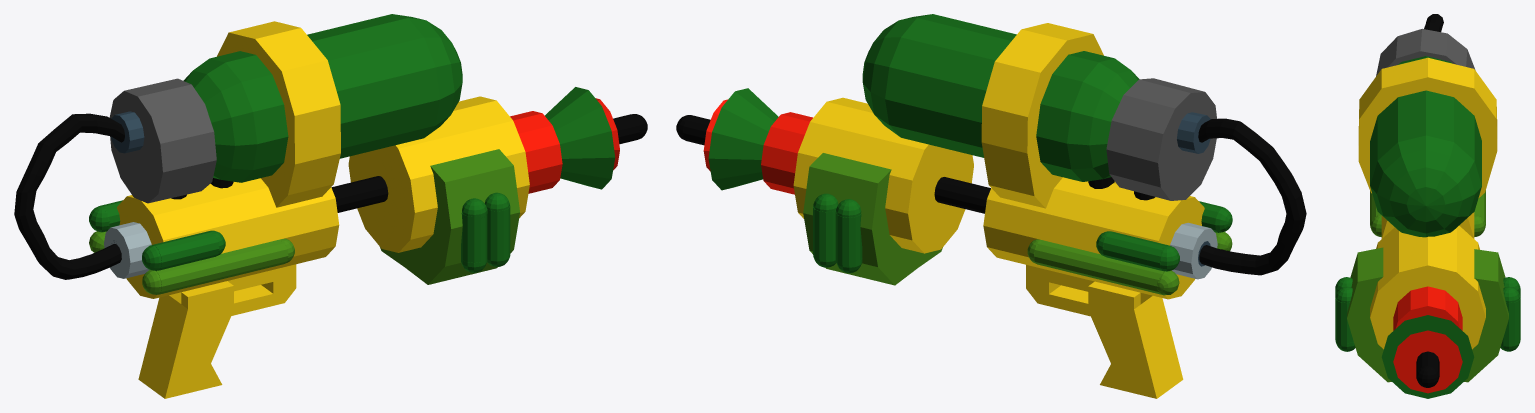
The picture shows the model from 3 angles, left to right: view 1: azimuth 30°, elevation 25°; view 2: azimuth 150°, elevation 25°; view 3: azimuth 270°, elevation 25°; orthographic projection. The views are drawn at different scales.
Parts seen in each view (by area): view 1: group1528942852, group1231265303, group788754832, group152732627, group1432826538, group1626636843, group1460454516, group426131636, group805588756, group1919121466, group501557005, group1093873200 (+5 smaller); view 2: group1528942852, group1231265303, group788754832, group152732627, group1432826538, group1626636843, group1460454516, group426131636, group805588756, group869934215, group501557005, group1093873200 (+5 smaller); view 3: group1528942852, group1231265303, group152732627, group1460454516, group805588756, group1119951653, group1626636843, group501557005, group155952289, group1585345453, group788754832, group1788925378 (+8 smaller).
Part boxes in pixels (bbox=[...]): group1528942852: bbox=[183, 14, 462, 182]; group1231265303: bbox=[348, 96, 529, 252]; group788754832: bbox=[117, 178, 339, 298]; group152732627: bbox=[217, 21, 340, 207]; group1432826538: bbox=[138, 264, 296, 398]; group1626636843: bbox=[109, 78, 216, 203]; group1460454516: bbox=[380, 149, 519, 284]; group426131636: bbox=[14, 113, 124, 279]; group805588756: bbox=[545, 87, 615, 189]; group1919121466: bbox=[156, 239, 288, 294]; group501557005: bbox=[510, 111, 562, 193]; group1093873200: bbox=[331, 114, 640, 212]; group1528942852: bbox=[862, 14, 1139, 181]; group1231265303: bbox=[793, 97, 973, 253]; group788754832: bbox=[983, 177, 1204, 299]; group152732627: bbox=[981, 23, 1103, 208]; group1432826538: bbox=[1026, 265, 1183, 398]; group1626636843: bbox=[1106, 78, 1216, 200]; group1460454516: bbox=[803, 153, 942, 285]; group426131636: bbox=[1198, 118, 1306, 275]; group805588756: bbox=[708, 88, 778, 190]; group869934215: bbox=[1034, 240, 1163, 294]; group501557005: bbox=[761, 112, 812, 194]; group1093873200: bbox=[682, 115, 990, 213]; group1528942852: bbox=[1370, 56, 1481, 237]; group1231265303: bbox=[1370, 225, 1485, 349]; group152732627: bbox=[1358, 57, 1497, 198]; group1460454516: bbox=[1347, 247, 1508, 382]; group805588756: bbox=[1381, 315, 1474, 398]; group1119951653: bbox=[1393, 330, 1462, 393]; group1626636843: bbox=[1376, 28, 1475, 76]; group501557005: bbox=[1393, 286, 1462, 330]; group155952289: bbox=[1501, 298, 1520, 344]; group1585345453: bbox=[1335, 298, 1353, 344]; group788754832: bbox=[1381, 212, 1474, 238]; group1788925378: bbox=[1416, 365, 1439, 387].
Bounding box in the file's own units: 0.5479 × 0.27 × 0.16.
